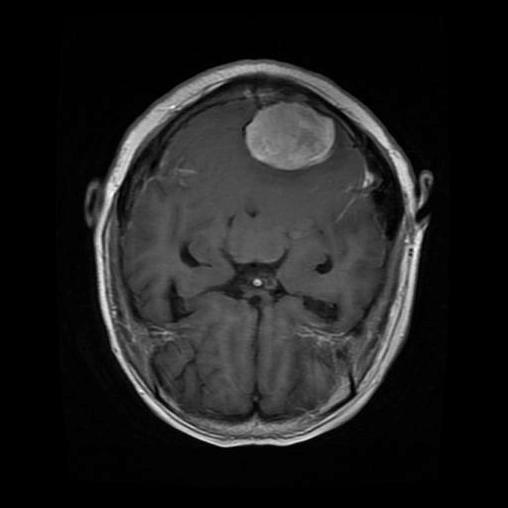Tumour-Pituitary: (221, 91, 348, 185)
